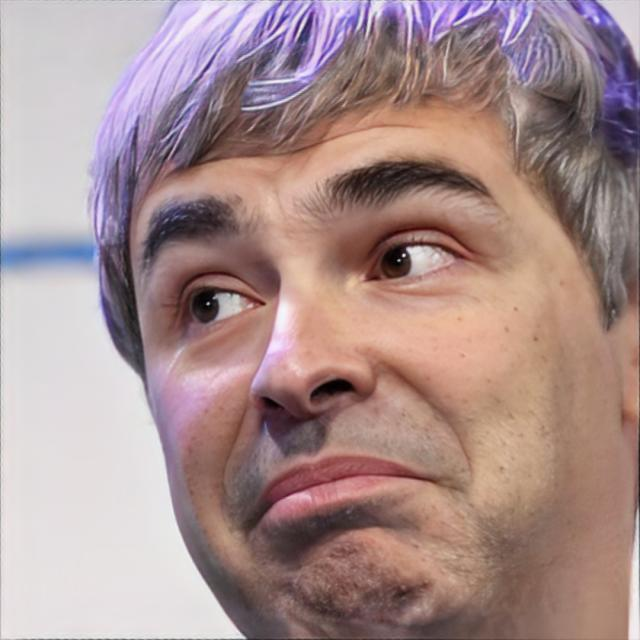disgust: (128, 0, 624, 640)
